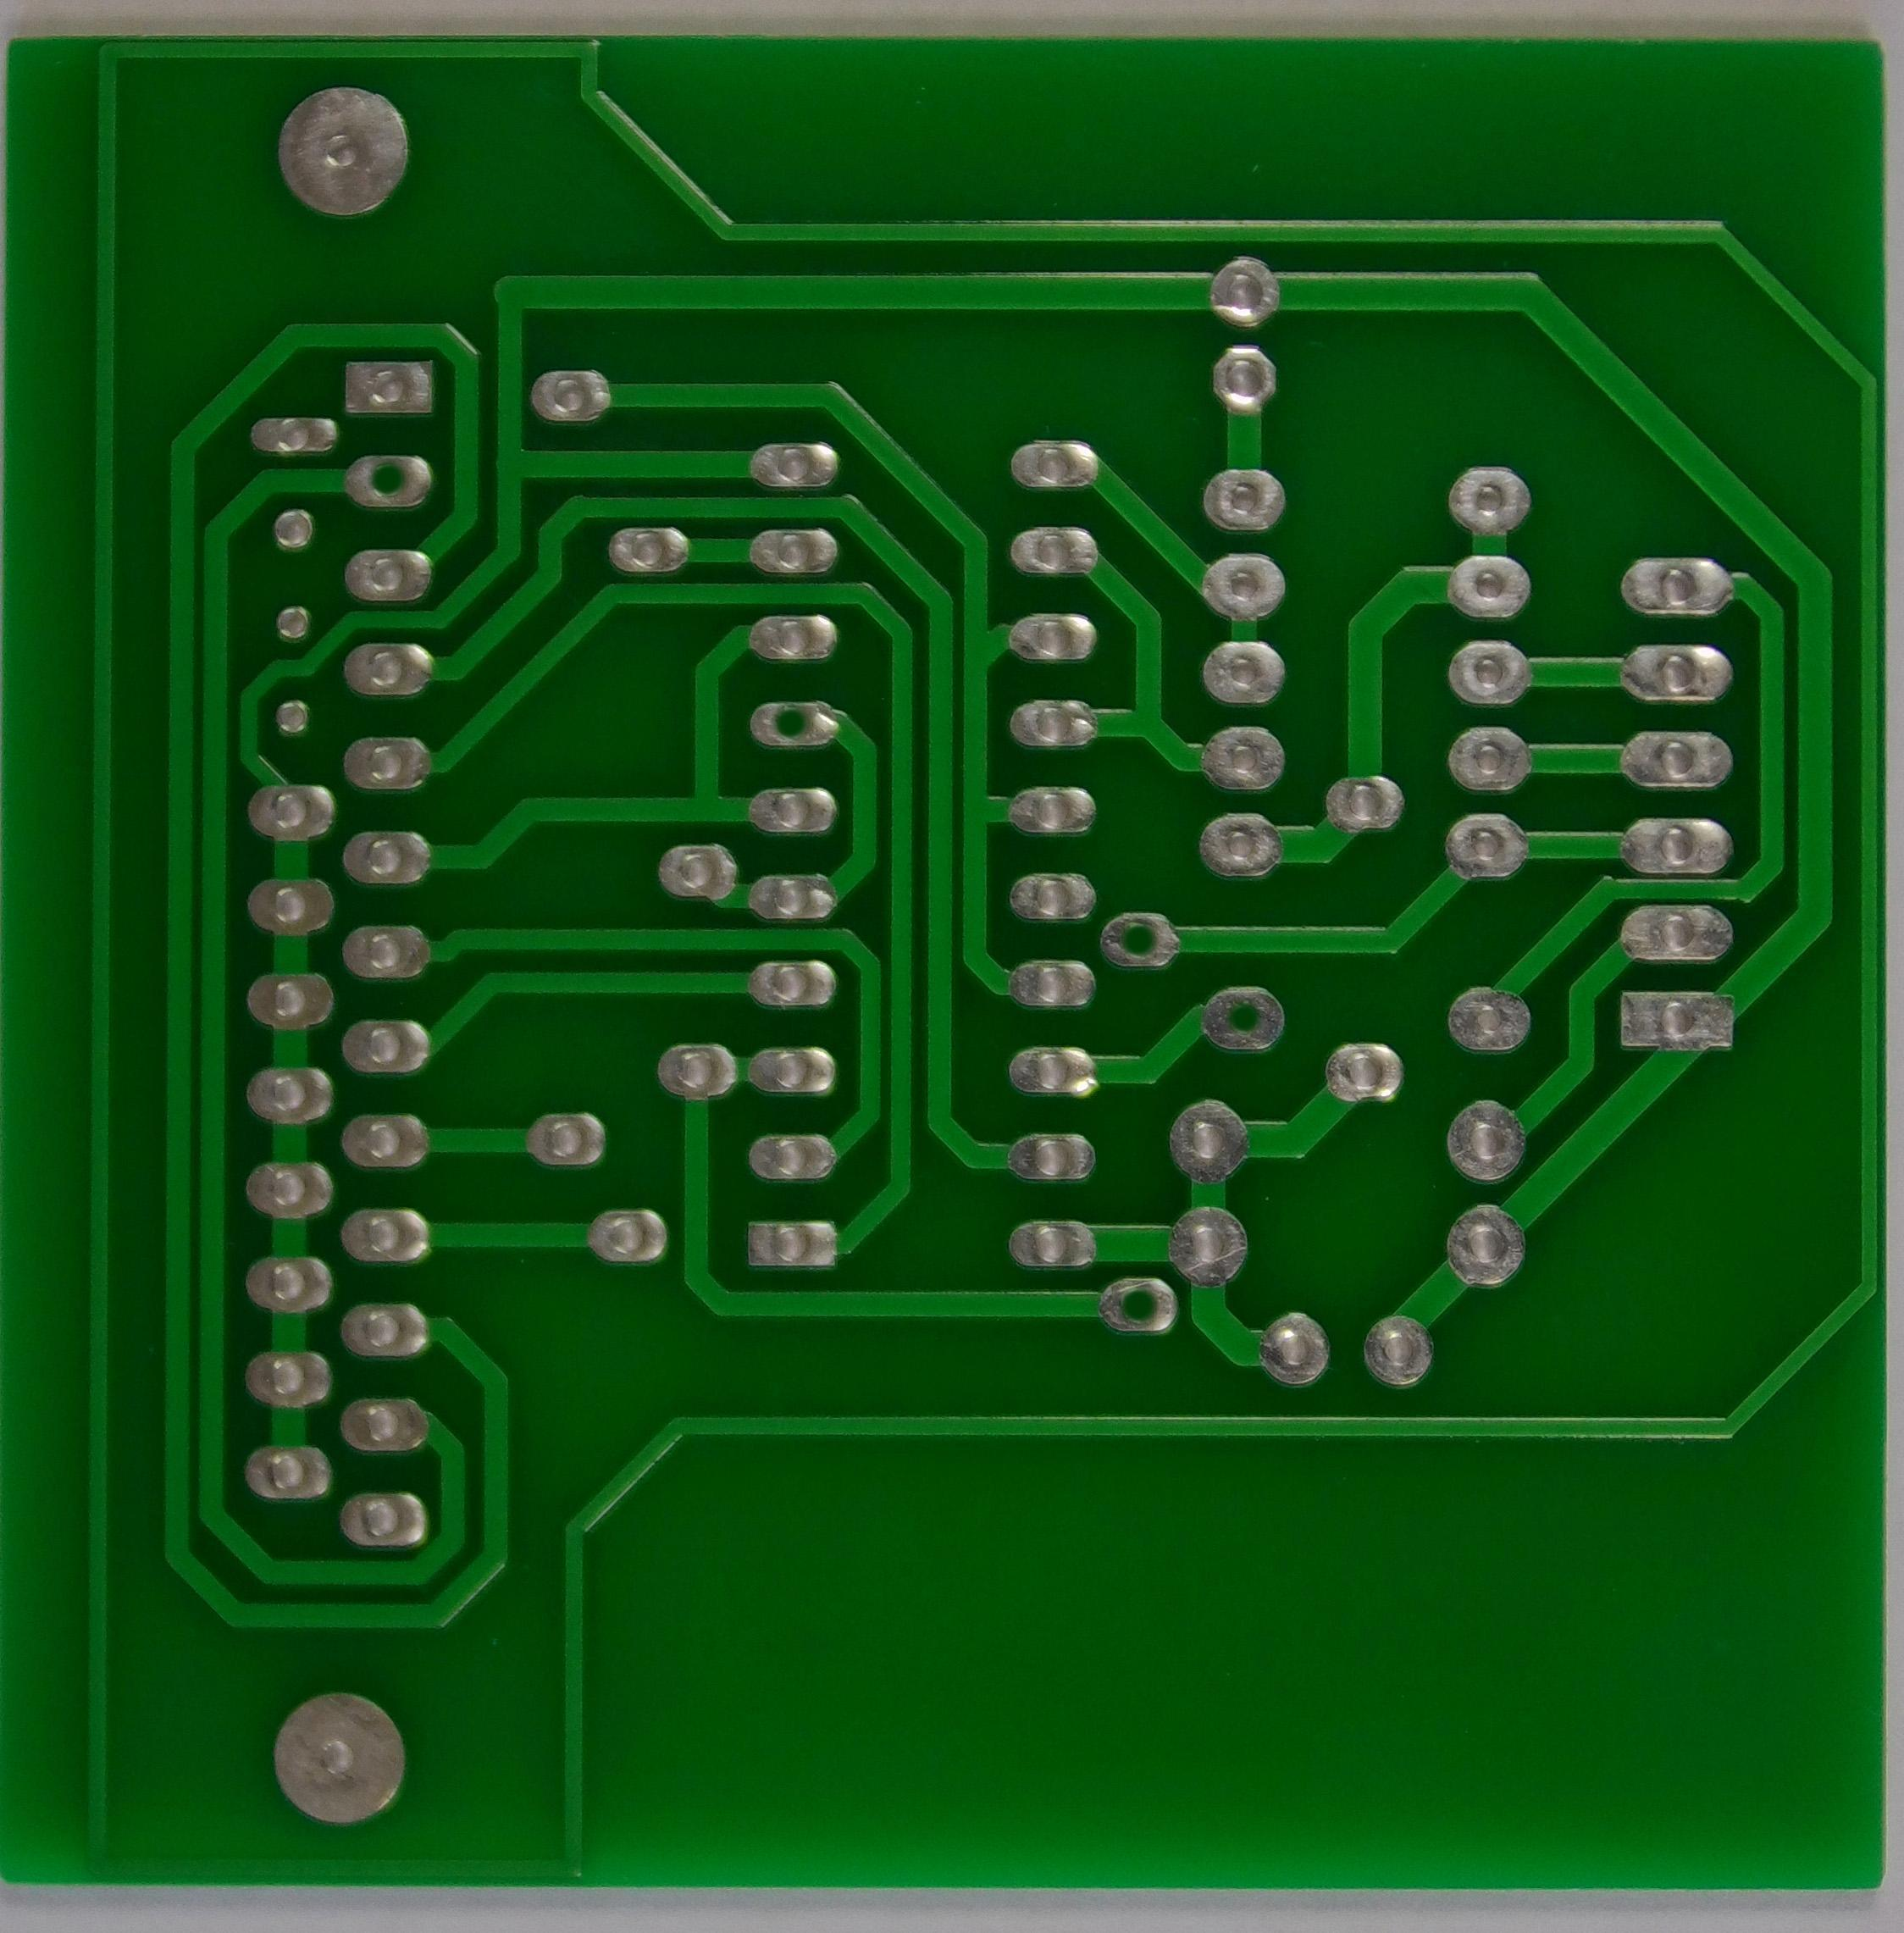missing_hole: (330, 437, 441, 518), (1194, 976, 1294, 1065), (1083, 901, 1184, 974), (732, 695, 851, 753), (1088, 1274, 1179, 1337)
